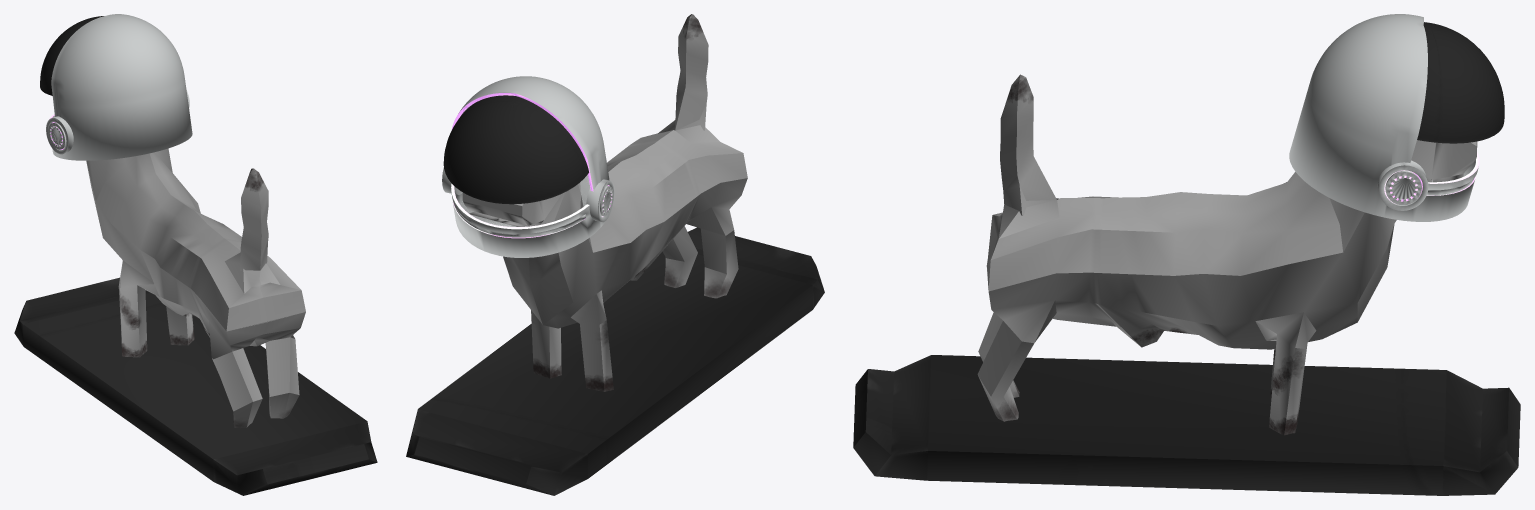
Rendered from modelo_vicentico (1).fbx.
The picture shows the model from 3 angles, left to right: view 1: azimuth 30°, elevation 25°; view 2: azimuth 150°, elevation 25°; view 3: azimuth 270°, elevation 25°; orthographic projection. The views are drawn at different scales.
Visible parts, largest first — view 1: Tabla, cuerpo, Casco, Sphere.002, Cylinder.001; view 2: Tabla, cuerpo, Sphere.002, Casco, Cylinder.001; view 3: Tabla, cuerpo, Casco, Sphere.002, Cylinder.
Part boxes in pixels (left/top/right/bottom): Tabla: left=14, top=277, right=377, bottom=495; cuerpo: left=86, top=148, right=305, bottom=428; Casco: left=49, top=14, right=192, bottom=160; Sphere.002: left=40, top=16, right=103, bottom=95; Cylinder.001: left=46, top=116, right=73, bottom=154; Tabla: left=406, top=227, right=824, bottom=495; cuerpo: left=462, top=14, right=747, bottom=391; Sphere.002: left=443, top=95, right=588, bottom=204; Casco: left=451, top=76, right=609, bottom=257; Cylinder.001: left=586, top=179, right=614, bottom=222; Tabla: left=853, top=355, right=1520, bottom=495; cuerpo: left=977, top=74, right=1477, bottom=435; Casco: left=1289, top=14, right=1479, bottom=221; Sphere.002: left=1417, top=22, right=1504, bottom=143; Cylinder: left=1377, top=160, right=1428, bottom=210.
Size of the model in its own units: 143 by 281 by 397.
4 materials, 4 textured.
